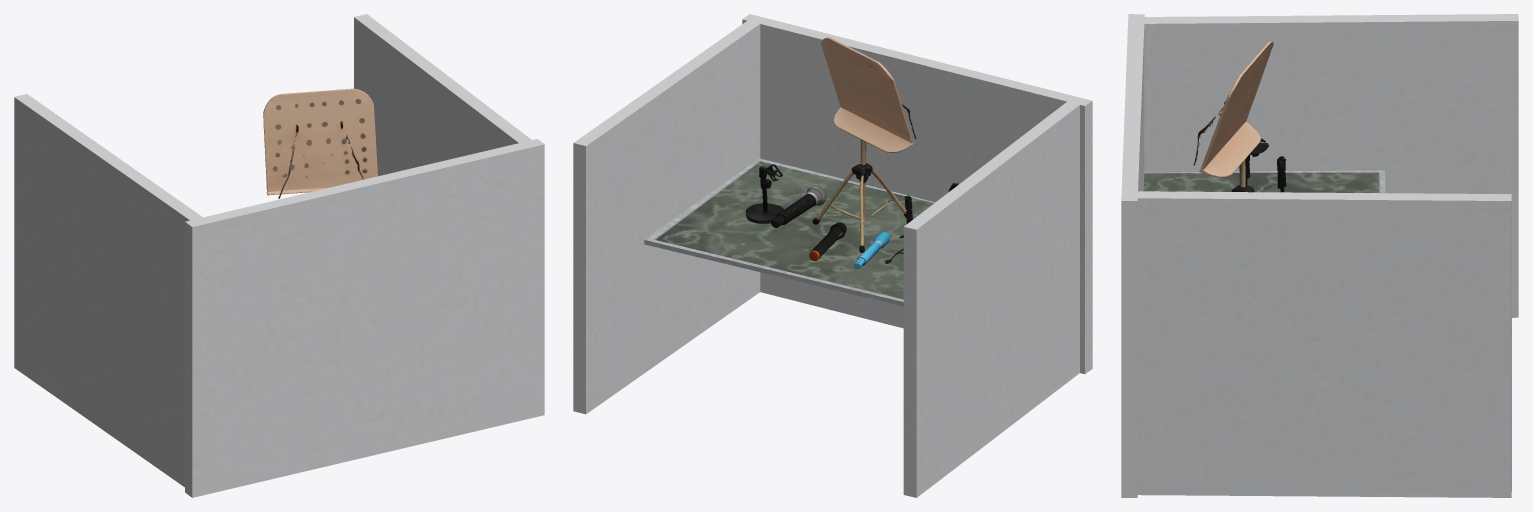
The model's file is ours.glb.
The picture shows the model from 3 angles, left to right: view 1: azimuth 30°, elevation 25°; view 2: azimuth 150°, elevation 25°; view 3: azimuth 270°, elevation 25°; orthographic projection. The views are drawn at different scales.
Parts seen in each view (by area): view 1: wall_0, wall_2, wall_1, obj_music_stand_0; view 2: wall_2, wall_1, wall_0, table_0, obj_music_stand_0, obj_microphone_stand_0, obj_microphone_0, obj_microphone_1; view 3: wall_1, wall_2, wall_0, table_0, obj_music_stand_0.
Boxes of the visible parts, x1=… form: wall_0: x1=185, y1=139, x2=544, y2=497; wall_2: x1=14, y1=94, x2=202, y2=487; wall_1: x1=354, y1=14, x2=535, y2=176; obj_music_stand_0: x1=263, y1=88, x2=377, y2=198; wall_2: x1=903, y1=99, x2=1079, y2=497; wall_1: x1=573, y1=18, x2=760, y2=414; wall_0: x1=742, y1=14, x2=1092, y2=374; table_0: x1=644, y1=158, x2=934, y2=306; obj_music_stand_0: x1=812, y1=37, x2=916, y2=252; obj_microphone_stand_0: x1=745, y1=164, x2=783, y2=223; obj_microphone_0: x1=771, y1=186, x2=826, y2=227; obj_microphone_1: x1=809, y1=222, x2=846, y2=260; wall_1: x1=1137, y1=191, x2=1511, y2=497; wall_2: x1=1136, y1=14, x2=1518, y2=317; wall_0: x1=1121, y1=14, x2=1144, y2=497; table_0: x1=1143, y1=170, x2=1385, y2=193; obj_music_stand_0: x1=1193, y1=41, x2=1273, y2=192.
Size of the model in its own units: 1.62 by 1.42 by 1.46.
10 materials, 10 textured.
